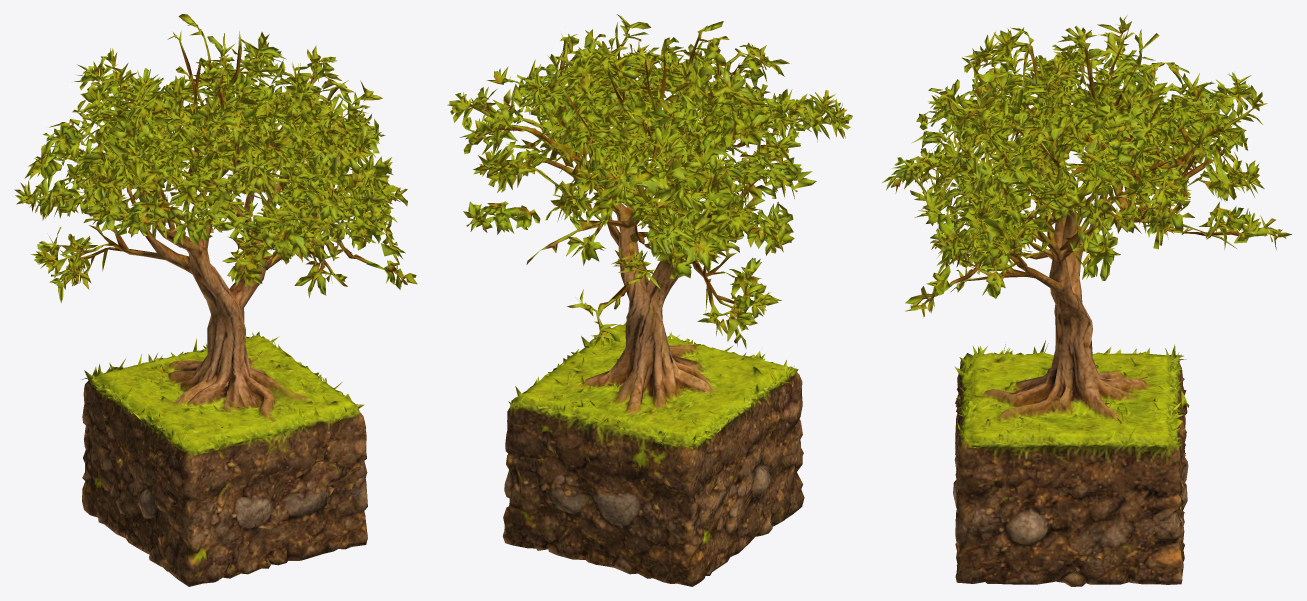
The model's file is jardim-rooted-radiance.glb.
3 views of the same model, side by side, from view 1: azimuth 30°, elevation 25°; view 2: azimuth 150°, elevation 25°; view 3: azimuth 270°, elevation 25° (orthographic). The views are drawn at different scales.
Parts seen in each view (by area): view 1: Mesh_0; view 2: Mesh_0; view 3: Mesh_0.
Boxes of the visible parts, <box> form: Mesh_0: <box>14,14,417,586</box>; Mesh_0: <box>447,14,852,586</box>; Mesh_0: <box>882,16,1291,586</box>.
Size of the model in its own units: 1.32 by 1.82 by 1.33.
1 material, 1 textured.
